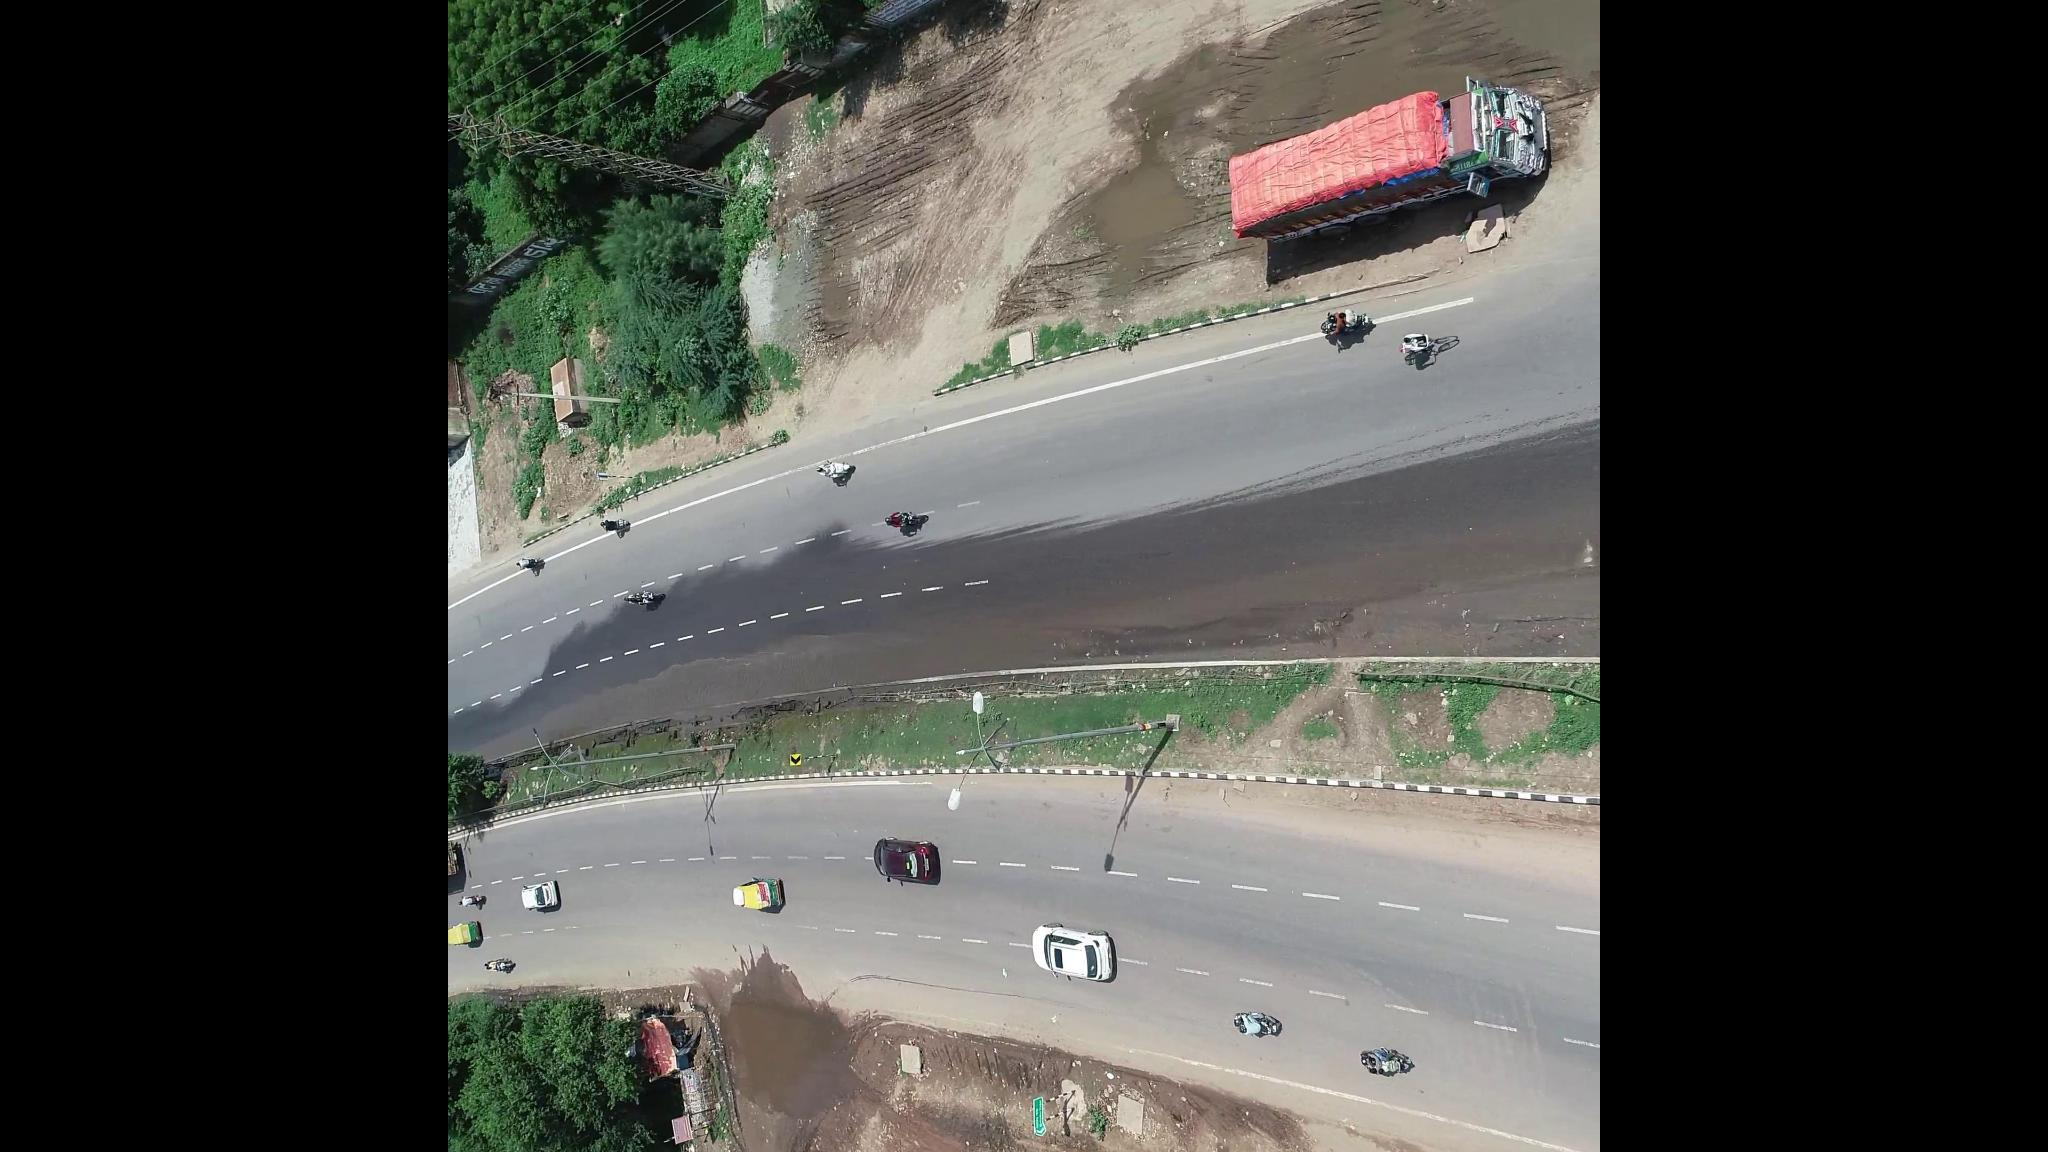Muddy_road: (1360, 587, 1594, 653)
Waterlogging: (608, 605, 911, 713)
